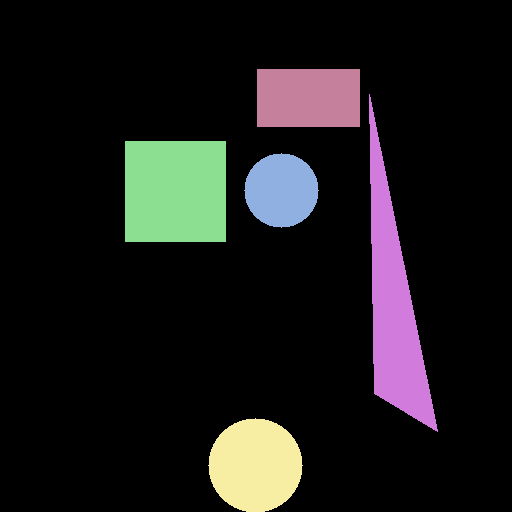circle: (209, 419, 301, 511), (244, 153, 318, 227)
rectangle: (257, 69, 359, 126)
square: (125, 141, 225, 241)
triangle: (369, 94, 437, 431)
